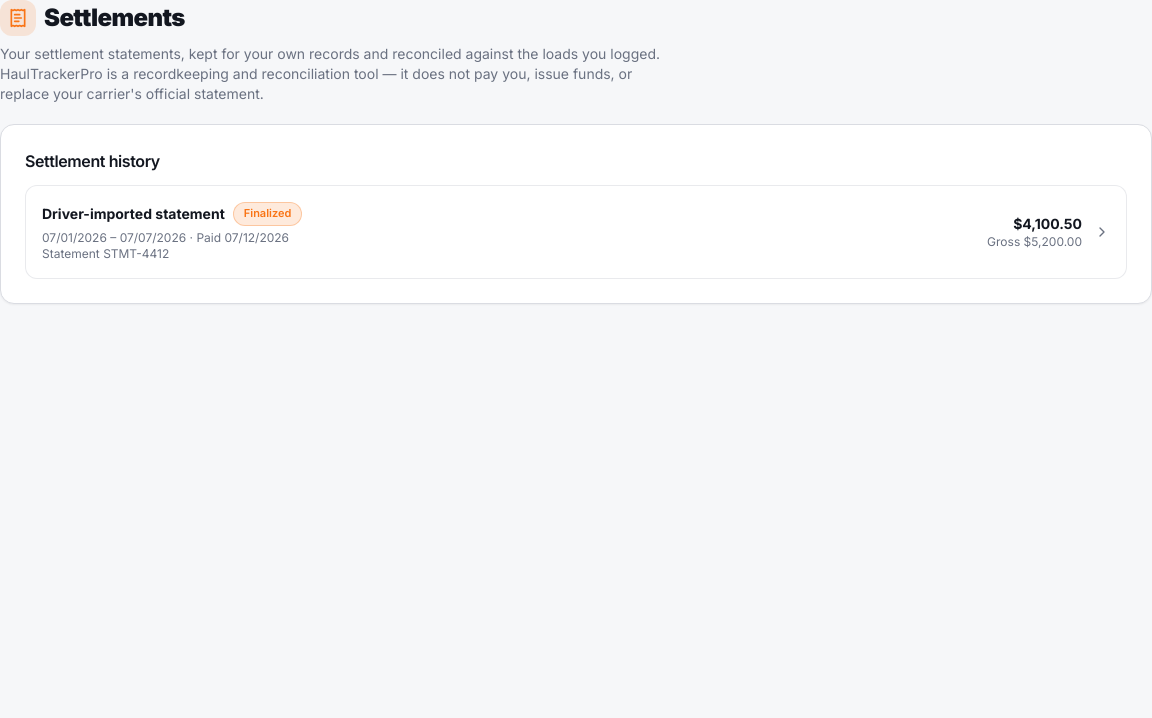
Scenario: O. selected settlement detail renders the full statement summary › uses the safe source fallback in the summary when both snapshots are absent
Click the button with test id "settlement-card": coordinates (133, 213) [25,185,1127,279]
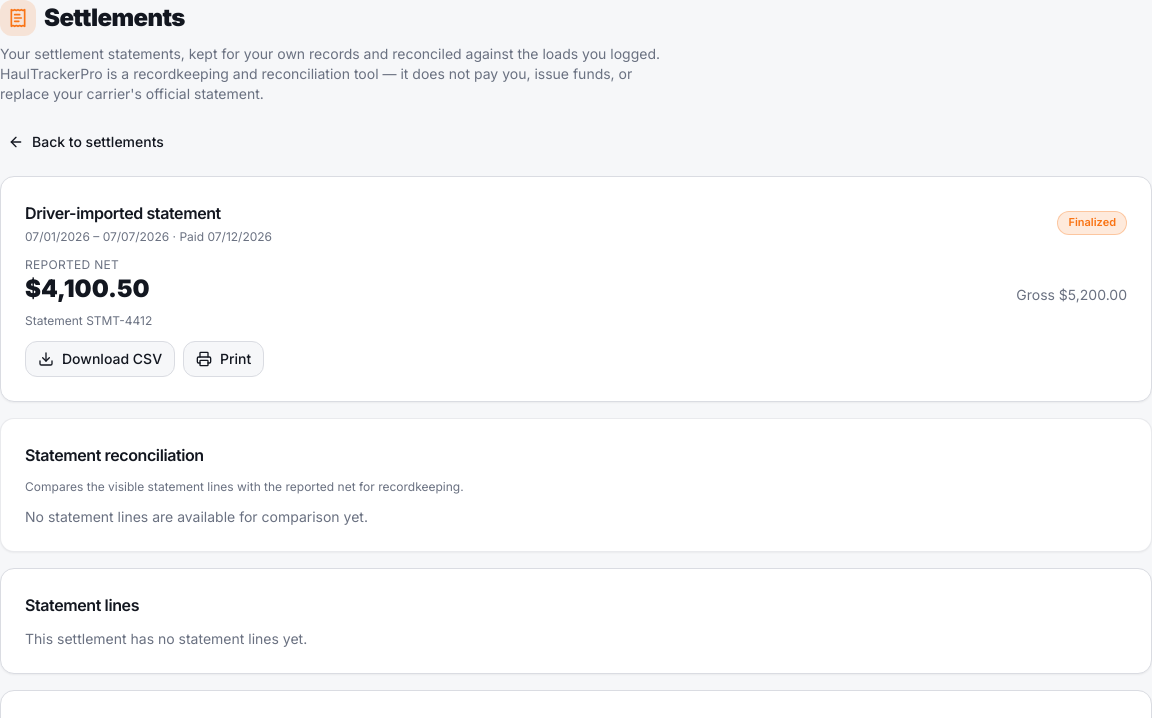
Check: the element with test id "settlement-detail-summary" shows "Driver-imported statement", box [25,203,221,223]
